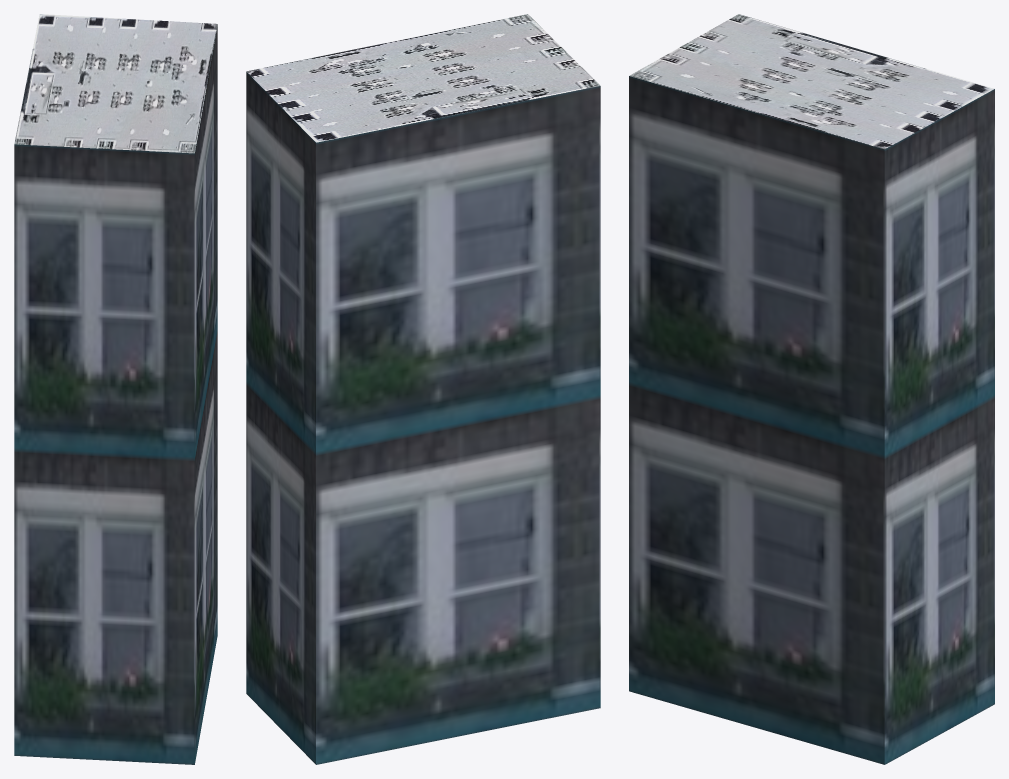
File: ResTex__2402.fbx
3 views of the same model, side by side, from view 1: azimuth 30°, elevation 25°; view 2: azimuth 150°, elevation 25°; view 3: azimuth 270°, elevation 25° (orthographic).
Visible parts, largest first — view 1: CityEngineMaterial_11_m, CityEngineMaterial_m; view 2: CityEngineMaterial_11_m, CityEngineMaterial_m; view 3: CityEngineMaterial_11_m, CityEngineMaterial_m.
Part boxes in pixels (x1,y1,x2,y2): CityEngineMaterial_11_m: [14, 25, 217, 764]; CityEngineMaterial_m: [14, 14, 217, 153]; CityEngineMaterial_11_m: [246, 72, 600, 764]; CityEngineMaterial_m: [246, 14, 600, 142]; CityEngineMaterial_11_m: [629, 76, 994, 764]; CityEngineMaterial_m: [629, 14, 994, 149].
Bounding box in the file's own units: 2.83 × 6 × 3.23.
Materials: 2 (2 with a texture image).
